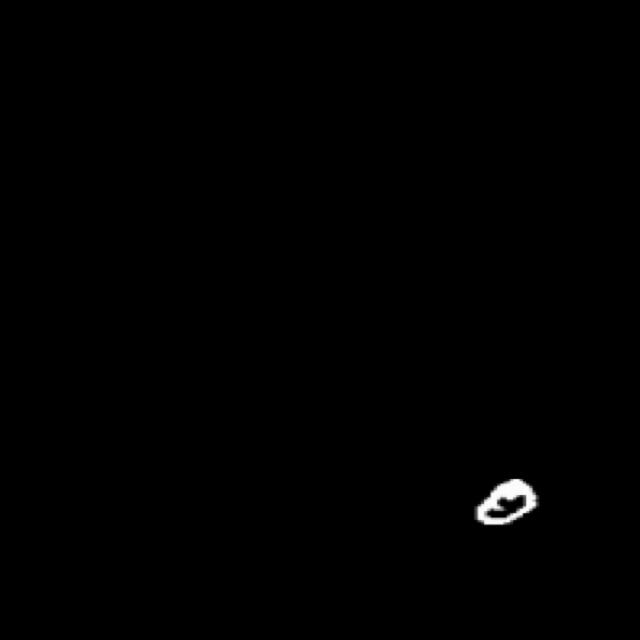zero -0-: (458, 466, 556, 540)
